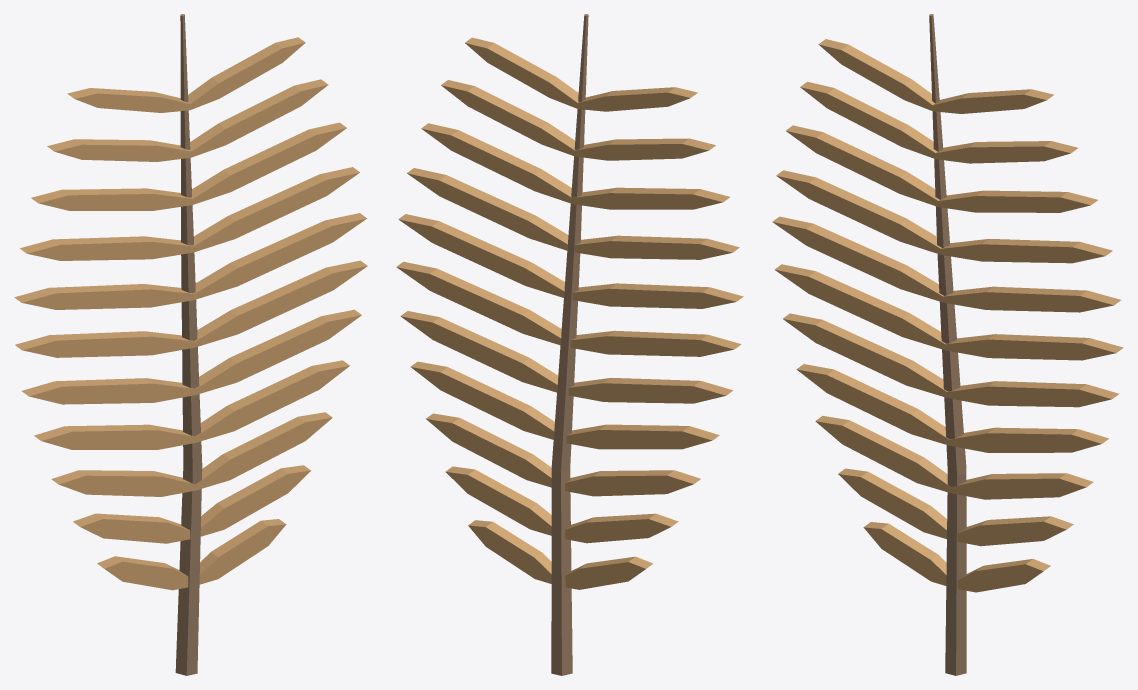
Rendered from pseudoctenis-greenland-243903.e6715dab5ccc.glb.
3 views of the same model, side by side, from view 1: azimuth 30°, elevation 25°; view 2: azimuth 150°, elevation 25°; view 3: azimuth 330°, elevation 25° (orthographic). The views are drawn at different scales.
Visible parts, largest first — view 1: pseudoctenis-greenland-243903; view 2: pseudoctenis-greenland-243903; view 3: pseudoctenis-greenland-243903.
Part boxes in pixels (bbox=[...]): pseudoctenis-greenland-243903: bbox=[14, 14, 367, 675]; pseudoctenis-greenland-243903: bbox=[396, 14, 743, 675]; pseudoctenis-greenland-243903: bbox=[772, 14, 1123, 675].
Bounding box in the file's own units: 0.5448 × 1 × 0.0516.
